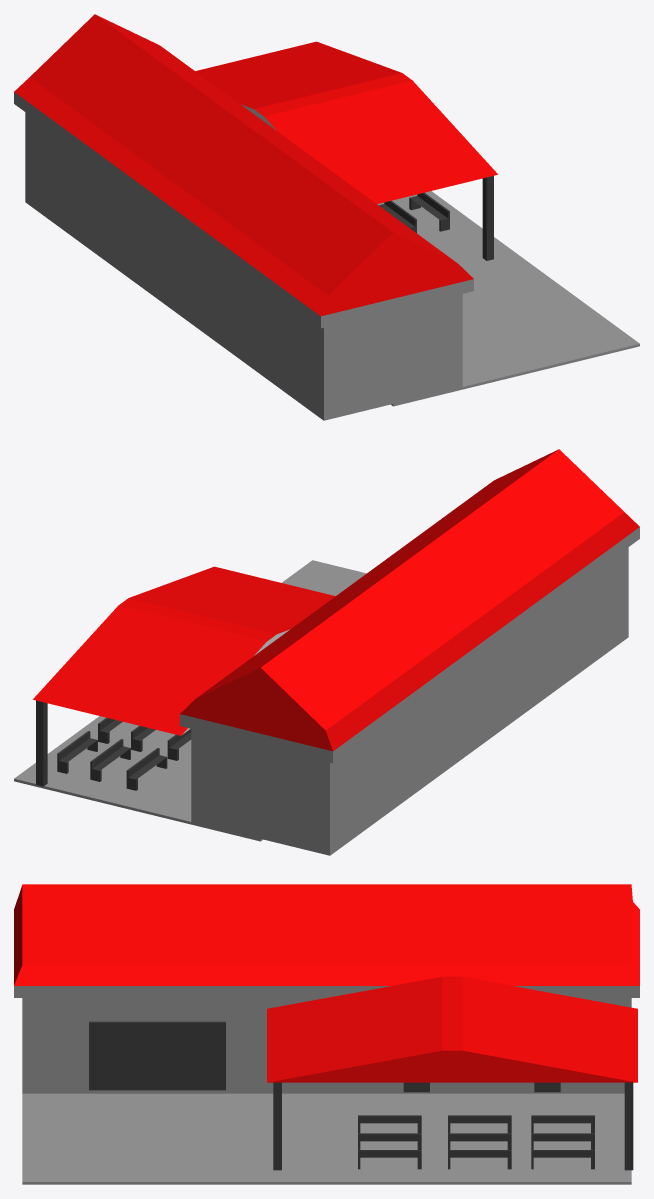
File: Clothing Warehouse.fbx
3 views of the same model, one above another, from view 1: azimuth 30°, elevation 25°; view 2: azimuth 150°, elevation 25°; view 3: azimuth 270°, elevation 25° (orthographic). The views are drawn at different scales.
Visible parts, largest first — view 1: Cube, Cube.001, Cube.005; view 2: Cube, Cube.001, Cube.005; view 3: Cube, Cube.001, Cube.004, Cube.005.
Part boxes in pixels (bbox=[...]): Cube: bbox=[14, 14, 639, 420]; Cube.001: bbox=[195, 41, 497, 260]; Cube.005: bbox=[379, 192, 449, 233]; Cube: bbox=[14, 449, 639, 855]; Cube.001: bbox=[33, 566, 335, 786]; Cube.005: bbox=[57, 717, 191, 790]; Cube: bbox=[14, 884, 639, 1184]; Cube.001: bbox=[267, 976, 637, 1170]; Cube.004: bbox=[89, 1021, 225, 1090]; Cube.005: bbox=[358, 1115, 594, 1169].
Bounding box in the file's own units: 6744 × 3465 × 11086.
